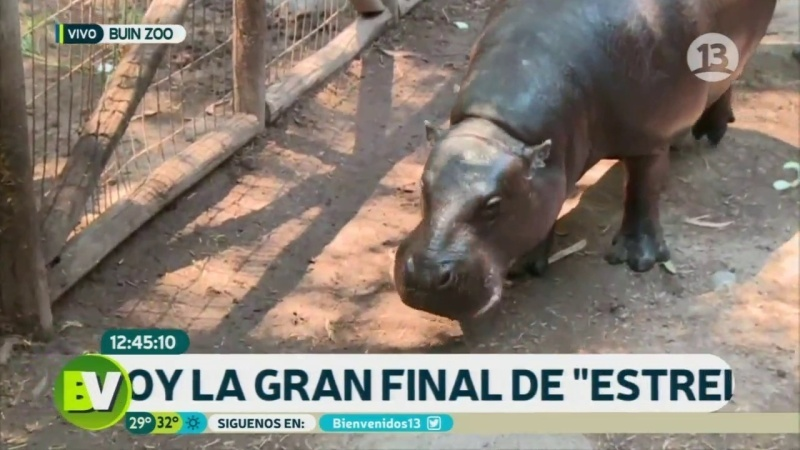hipopotamo: (365, 1, 781, 328)
